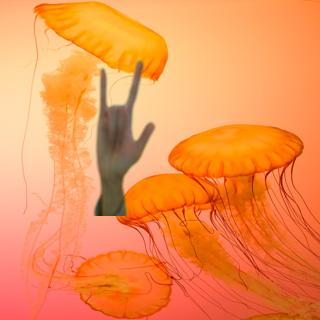ILY: (91, 58, 160, 182)
